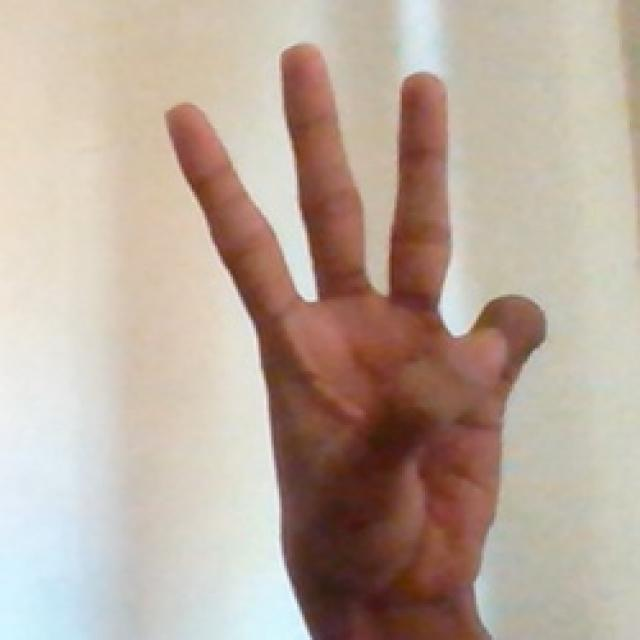Numeric-6: (157, 31, 550, 612)
